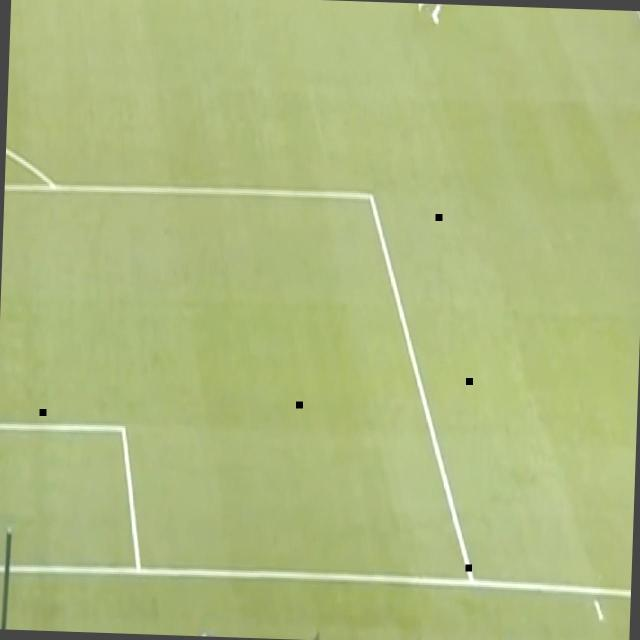player-white: (415, 3, 449, 26)
